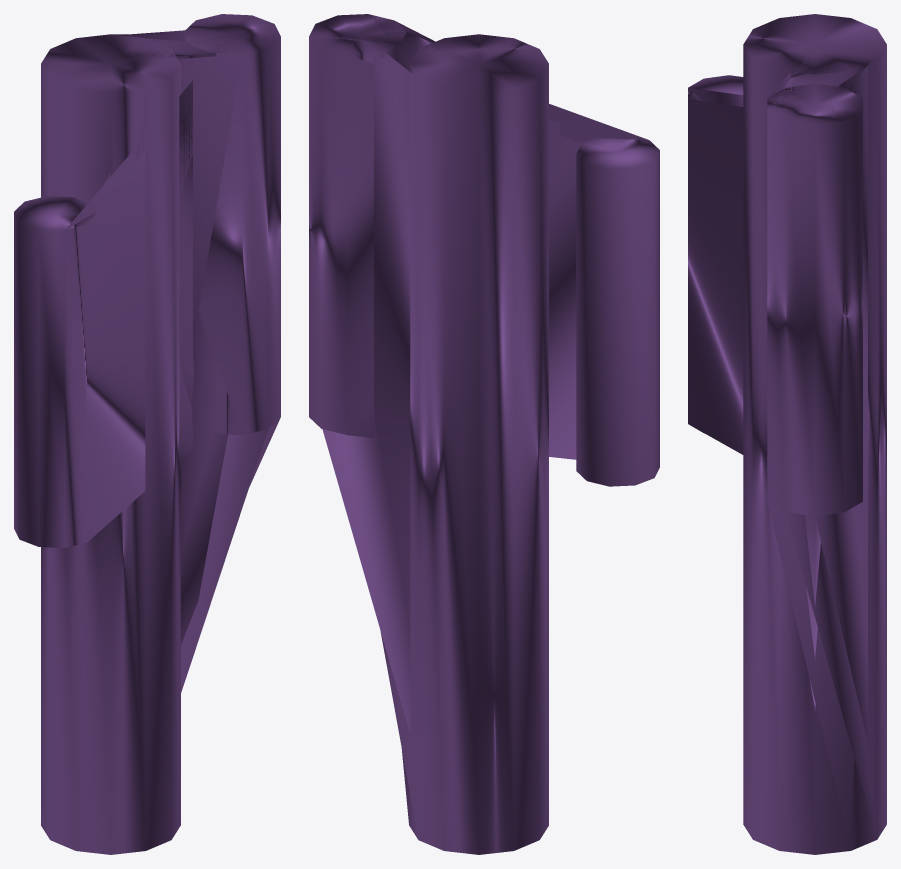
The model's file is rare_branch.obj.
3 renders of one model, left to right at view 1: azimuth 30°, elevation 25°; view 2: azimuth 150°, elevation 25°; view 3: azimuth 270°, elevation 25°, orthographic. The views are drawn at different scales.
Bounding box in the file's own units: 1.96 × 4.8 × 1.11.
